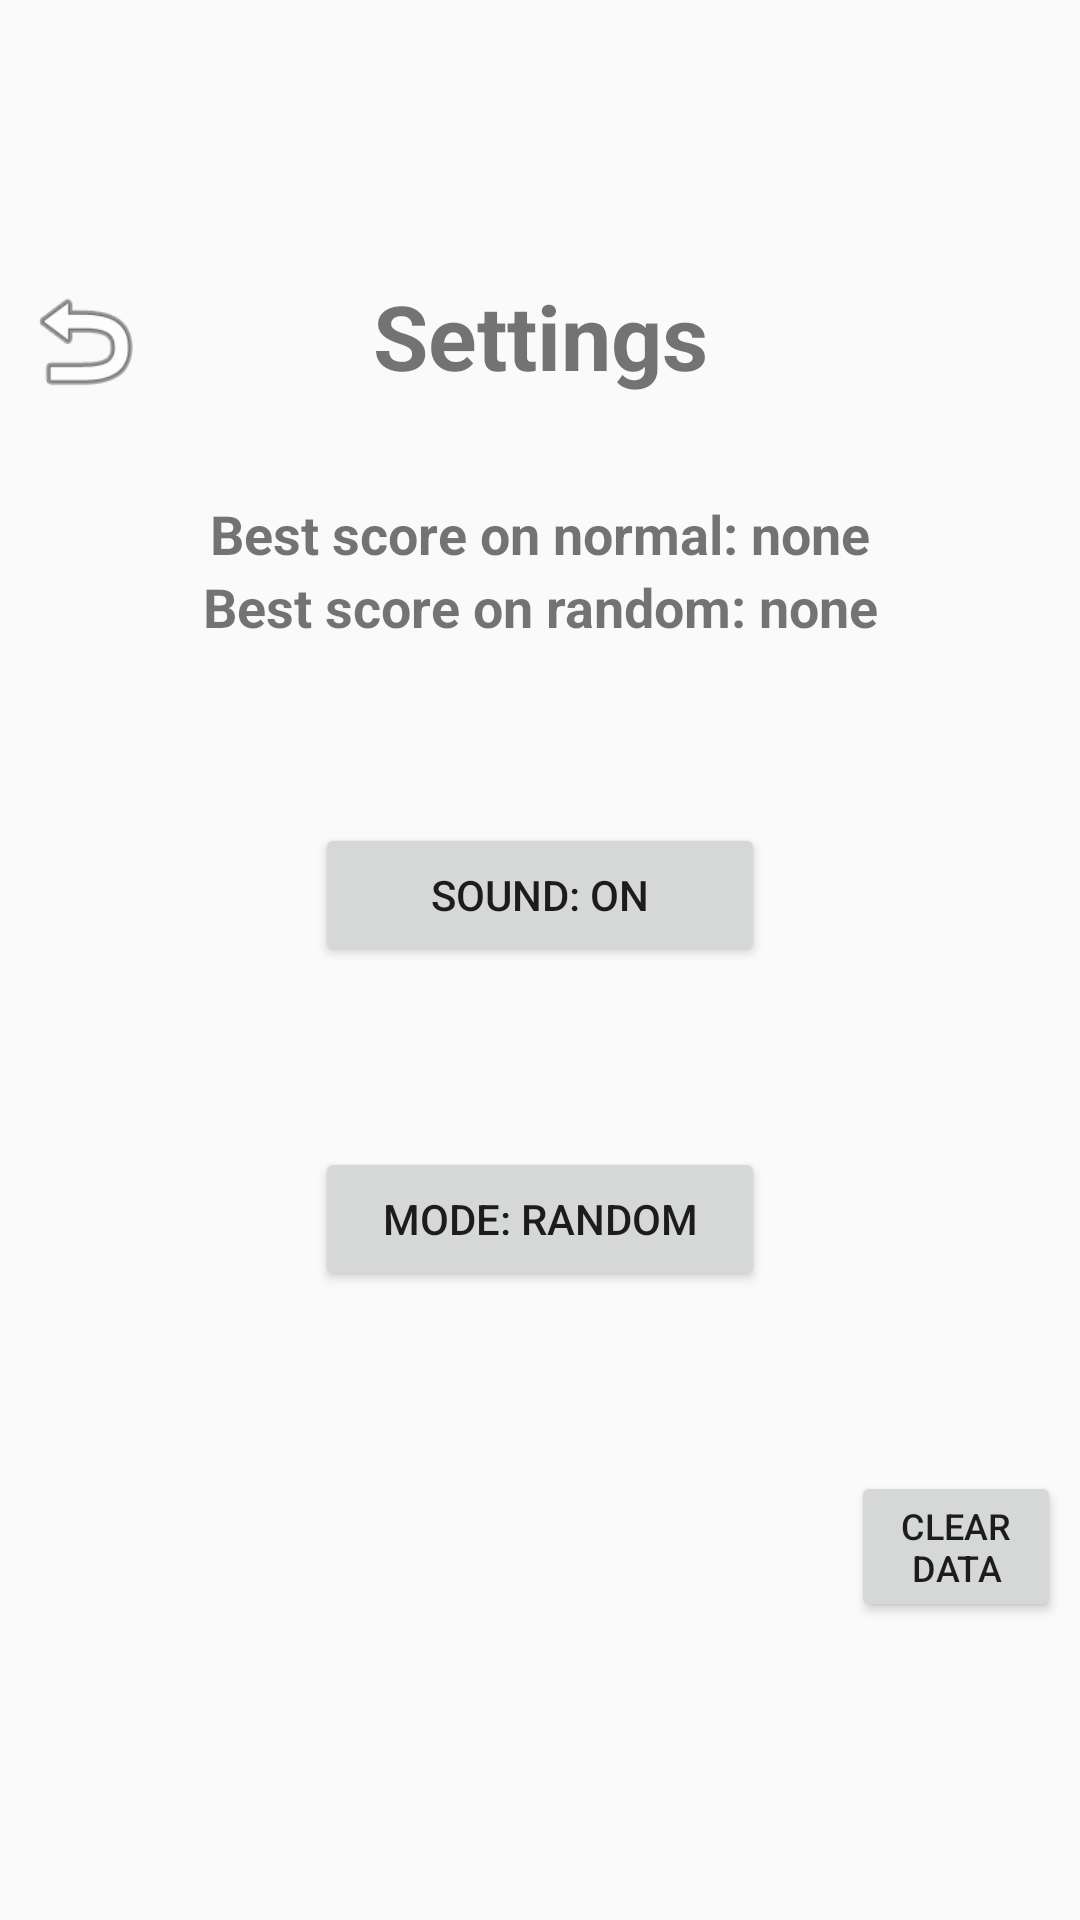

Where to tap for icons on this 1080w x 1920h app screen, as (x=x, y=y):
revert: (x=86, y=342)
